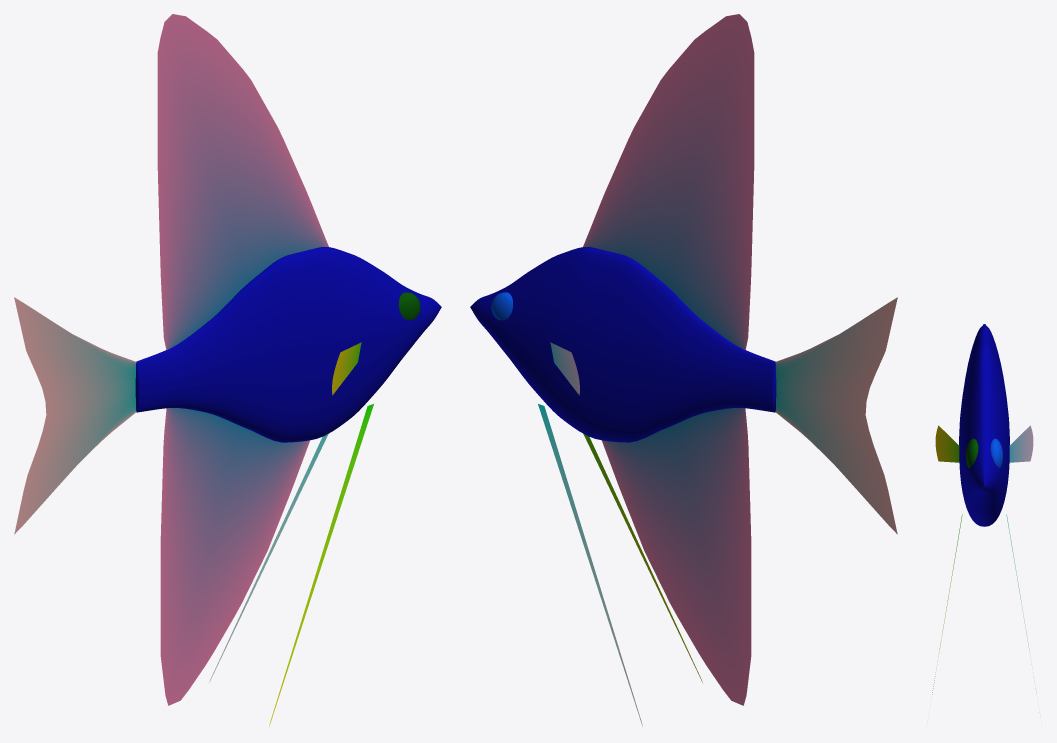
File: angel.glb
3 renders of one model, left to right at view 1: azimuth 30°, elevation 25°; view 2: azimuth 150°, elevation 25°; view 3: azimuth 270°, elevation 25°, orthographic. The views are drawn at different scales.
Parts seen in each view (by area): view 1: angel; view 2: angel; view 3: angel.
Part boxes in pixels (left/top/right/bottom): angel: left=14, top=14, right=441, bottom=726; angel: left=470, top=14, right=897, bottom=726; angel: left=932, top=324, right=1040, bottom=718.
Bounding box in the file's own units: 1.4 × 2.22 × 0.3413.
